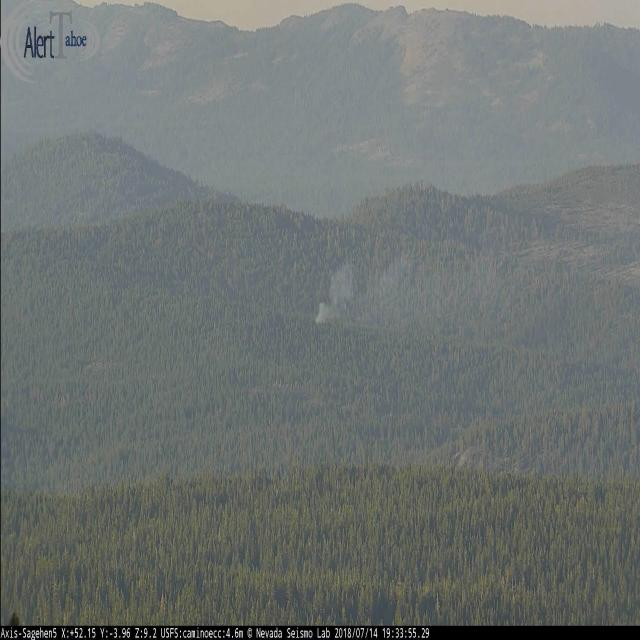smoke: (314, 262, 356, 323)
